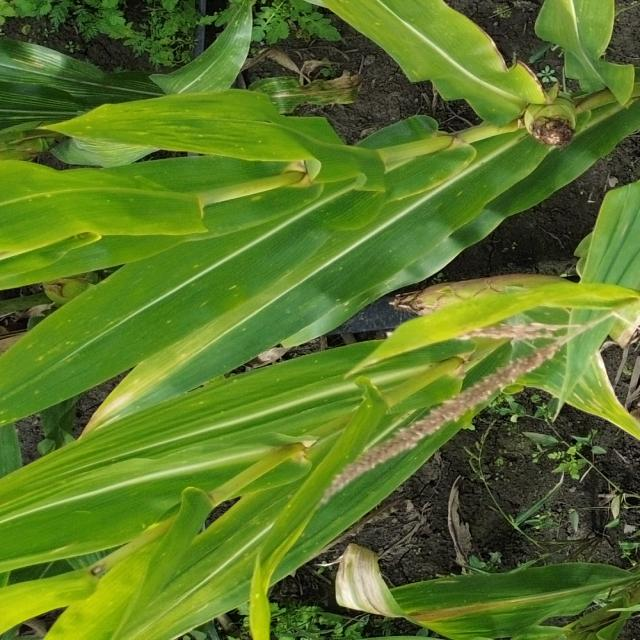gray-leaf-spot: (526, 359, 640, 448)
southern-leaf-blight: (0, 228, 368, 393), (85, 89, 331, 196), (170, 21, 245, 135)
